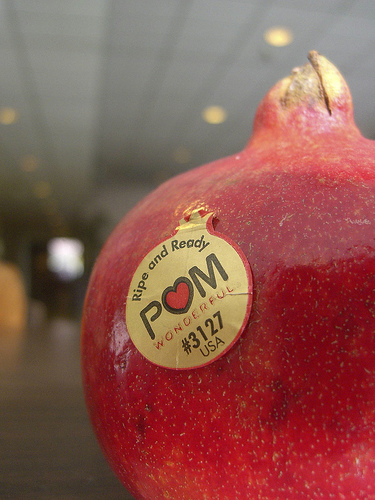pomogranate: (81, 51, 373, 498)
